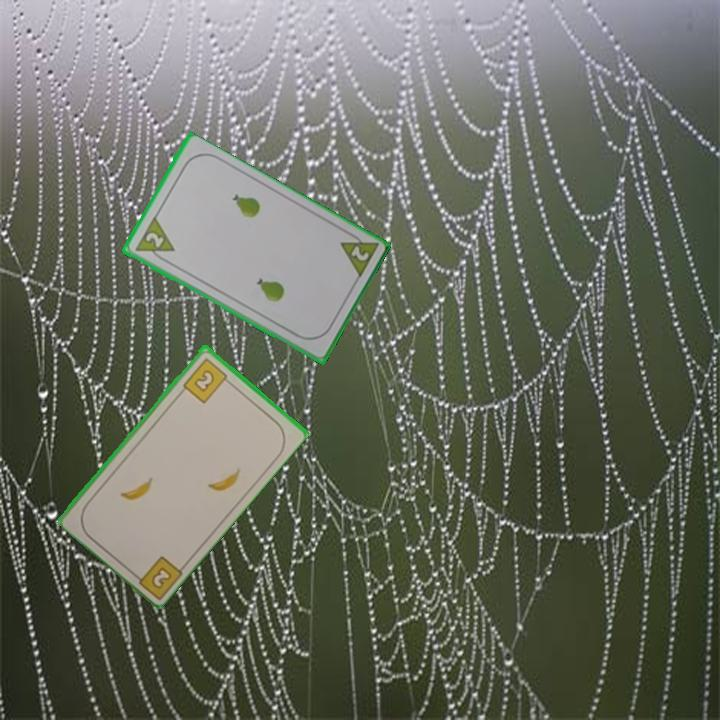2b: (179, 354, 234, 406), (128, 552, 186, 600)
2p: (336, 227, 381, 282), (130, 215, 177, 266)
